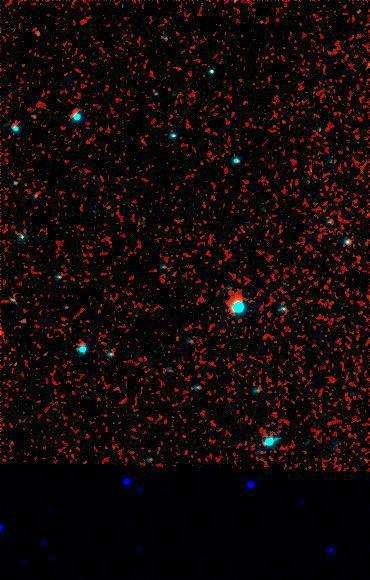star: (26, 338, 56, 368)
